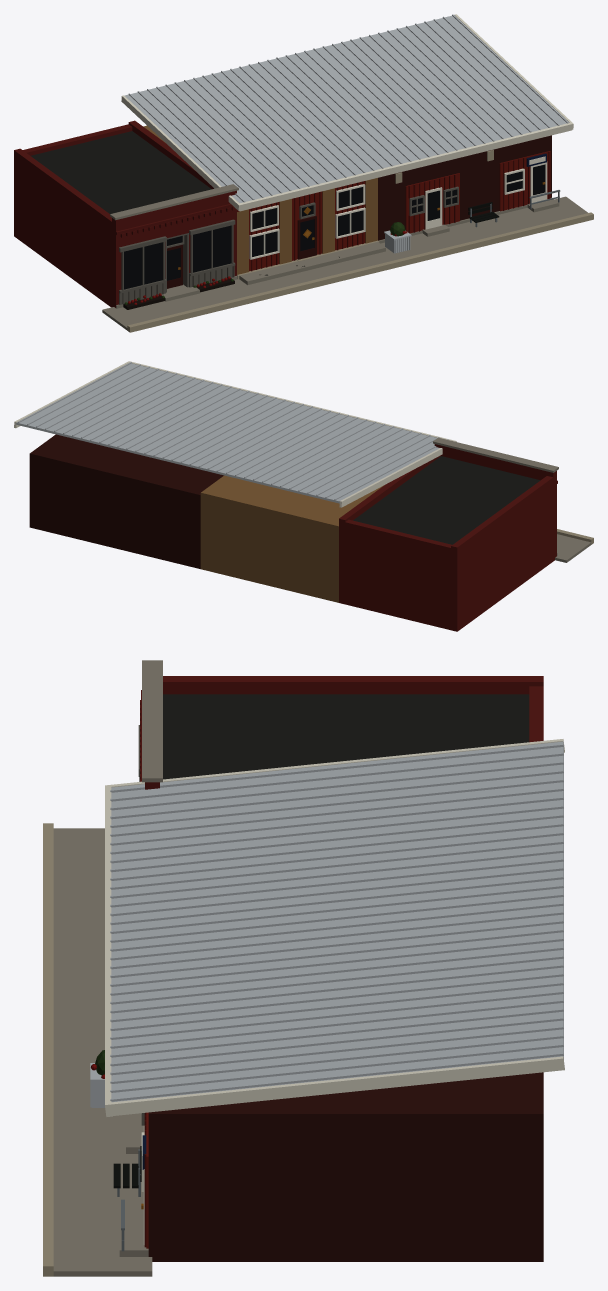
File: PubRow.obj
The picture shows the model from 3 angles, top to bottom: view 1: azimuth 30°, elevation 25°; view 2: azimuth 150°, elevation 25°; view 3: azimuth 270°, elevation 25°; orthographic projection. The views are drawn at different scales.
Visible parts, largest first — view 1: PubRow; view 2: PubRow; view 3: PubRow.
Part boxes in pixels (x1,y1,x2,y2): PubRow: (14,14,593,332); PubRow: (14,361,593,631); PubRow: (43,660,564,1276).
Bounding box in the file's own units: 27.6 × 6.25 × 13.74.
